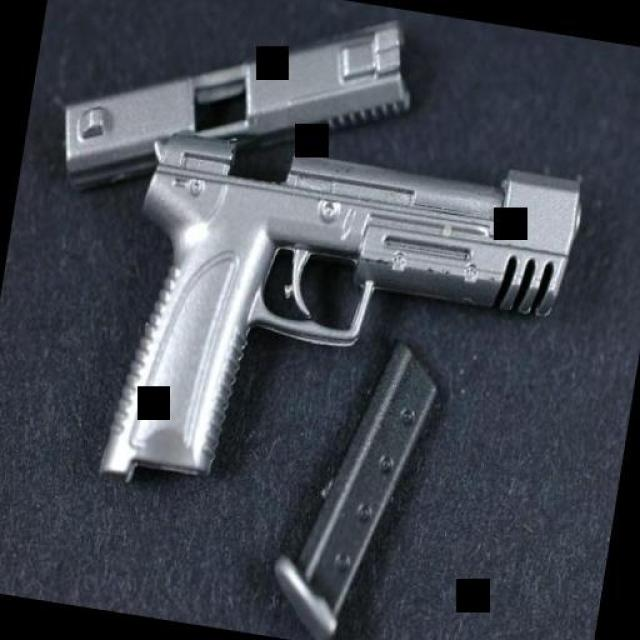gun: (79, 83, 596, 562)
